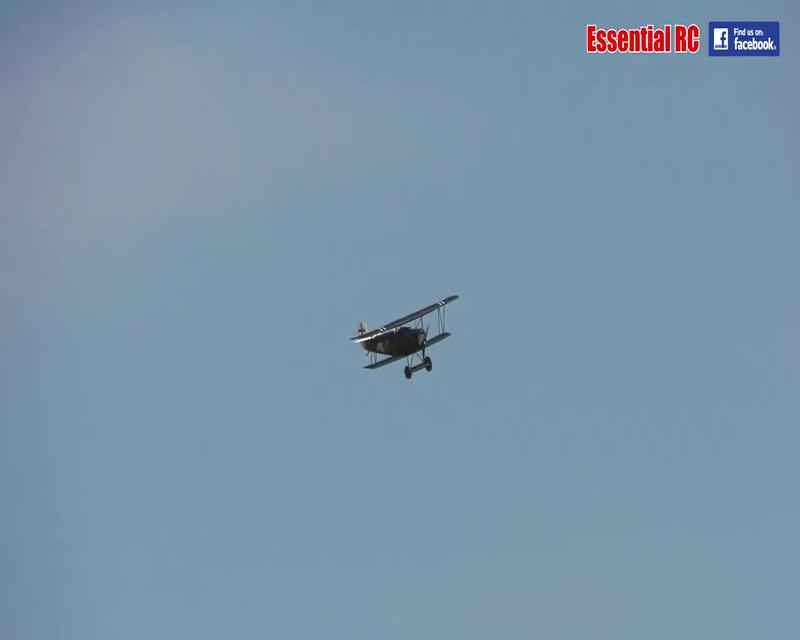UAV: (349, 294, 461, 381)
